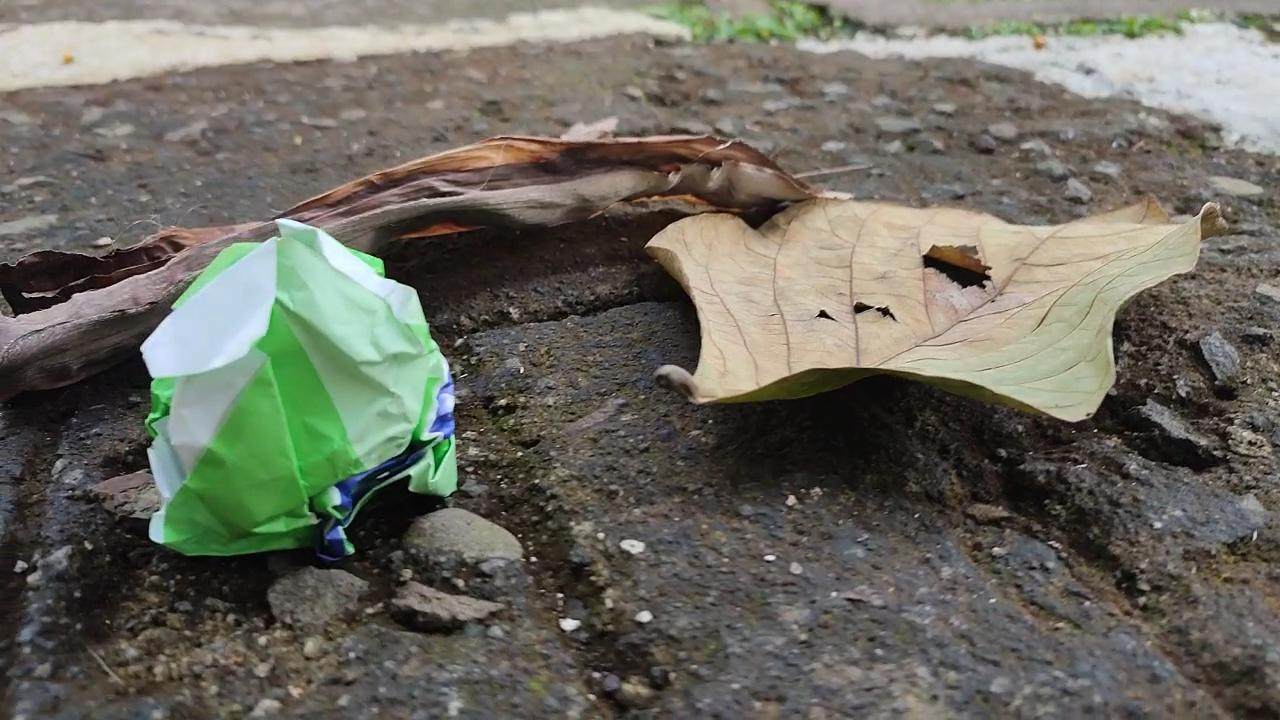Paper: (135, 212, 478, 563)
